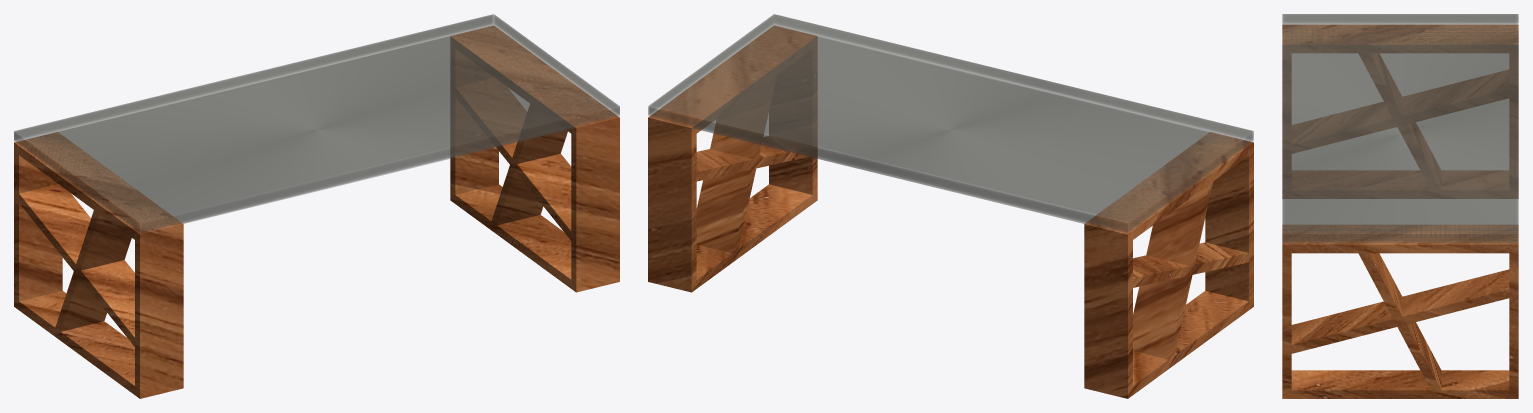
The model's file is coffeetable.gltf.
3 renders of one model, left to right at view 1: azimuth 30°, elevation 25°; view 2: azimuth 150°, elevation 25°; view 3: azimuth 270°, elevation 25°, orthographic. The views are drawn at different scales.
Visible parts, largest first — view 1: Walnut leg, green glass_clonedChild, green glass; view 2: green glass_clonedChild, Walnut leg, green glass; view 3: green glass_clonedChild, Walnut leg, green glass.
Part boxes in pixels (<box>): Walnut leg: <box>14,25,619,398</box>; green glass_clonedChild: <box>14,14,619,232</box>; green glass: <box>14,15,619,232</box>; green glass_clonedChild: <box>648,14,1253,232</box>; Walnut leg: <box>648,25,1253,398</box>; green glass: <box>648,14,1253,233</box>; green glass_clonedChild: <box>1282,14,1518,242</box>; Walnut leg: <box>1282,24,1518,398</box>; green glass: <box>1283,14,1518,243</box>.
Bounding box in the file's own units: 1.1 × 0.385 × 0.5.
2 materials, 2 textured.
